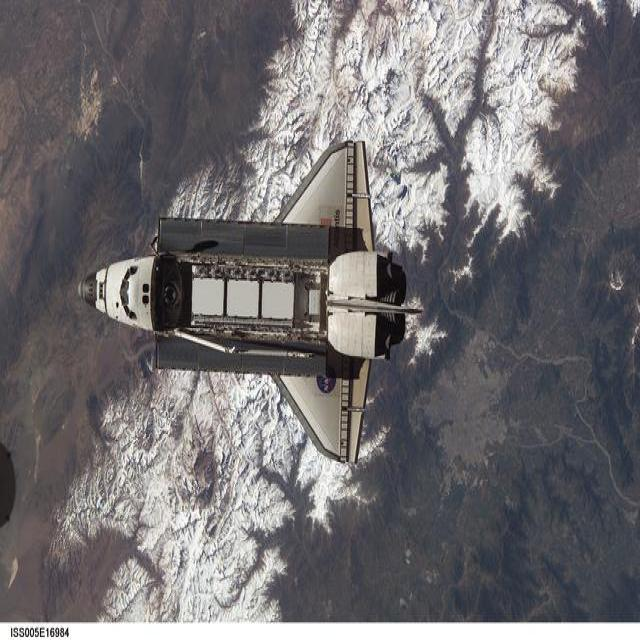satellite: (79, 142, 421, 463)
